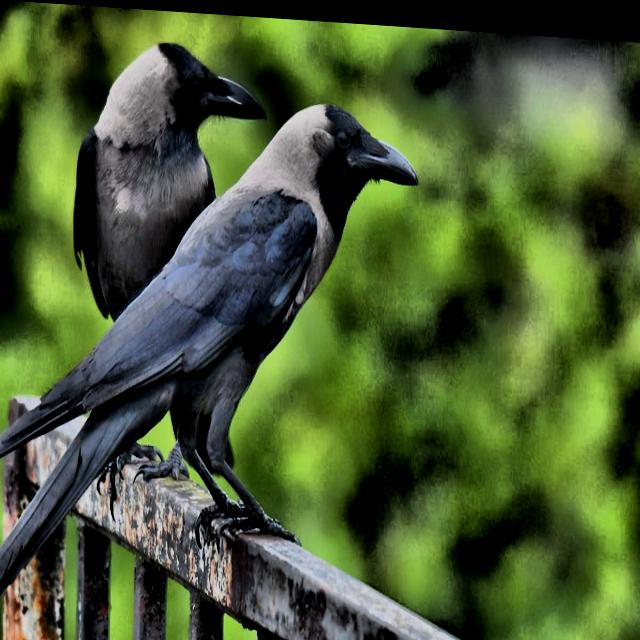crow: (74, 28, 260, 278), (278, 90, 424, 398)
